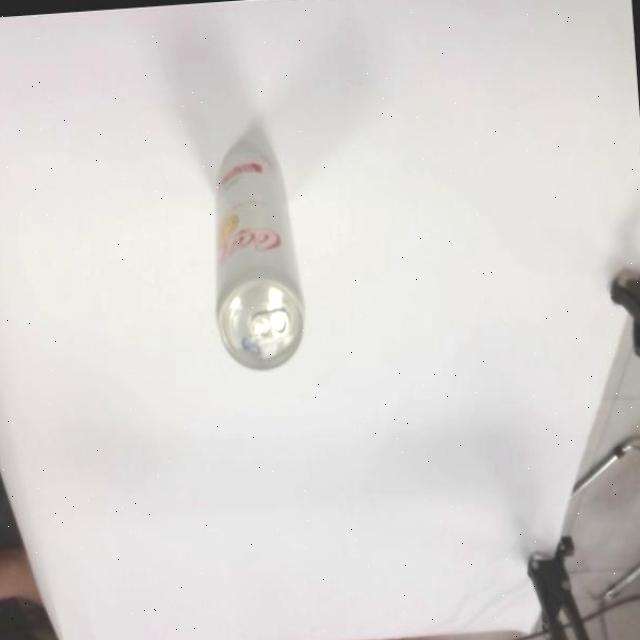debris: (200, 114, 310, 373)
